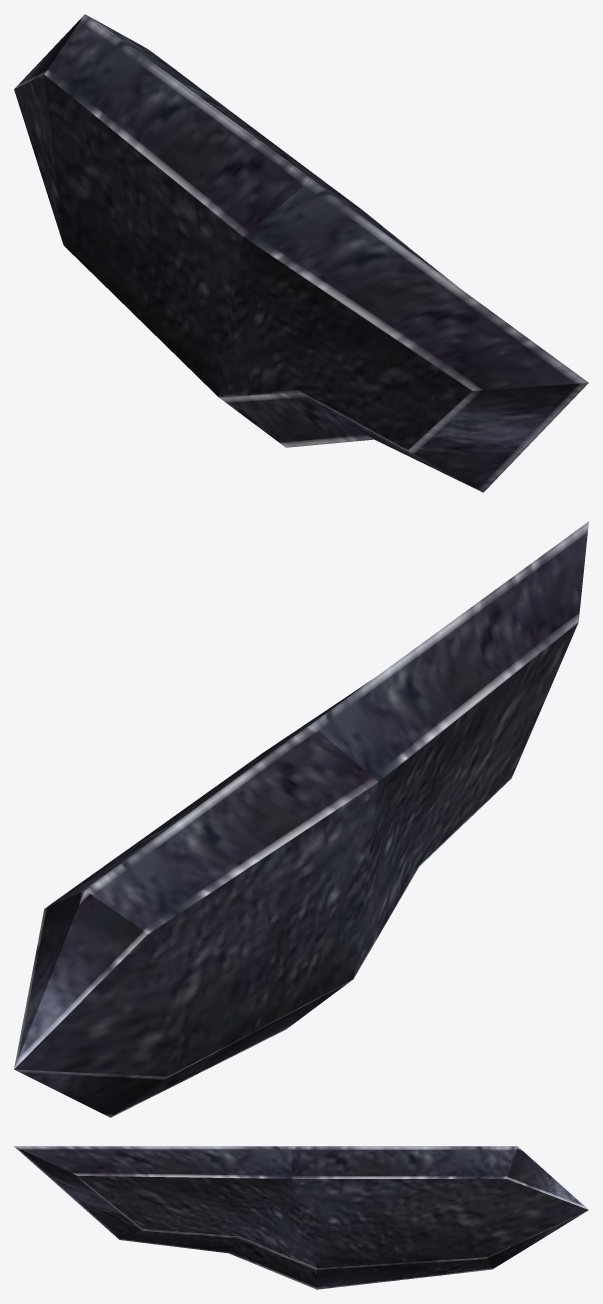
File: GroundCrystal.glb
3 views of the same model, one above another, from view 1: azimuth 30°, elevation 25°; view 2: azimuth 150°, elevation 25°; view 3: azimuth 270°, elevation 25° (orthographic). The views are drawn at different scales.
Parts seen in each view (by area): view 1: model_GroundCrystal; view 2: model_GroundCrystal; view 3: model_GroundCrystal.
Boxes of the visible parts, <box> form: model_GroundCrystal: <box>14,14,588,492</box>; model_GroundCrystal: <box>14,521,588,1117</box>; model_GroundCrystal: <box>14,1146,588,1289</box>.
Size of the model in its own units: 0.1356 by 0.3109 by 1.13.
1 material, 1 textured.
